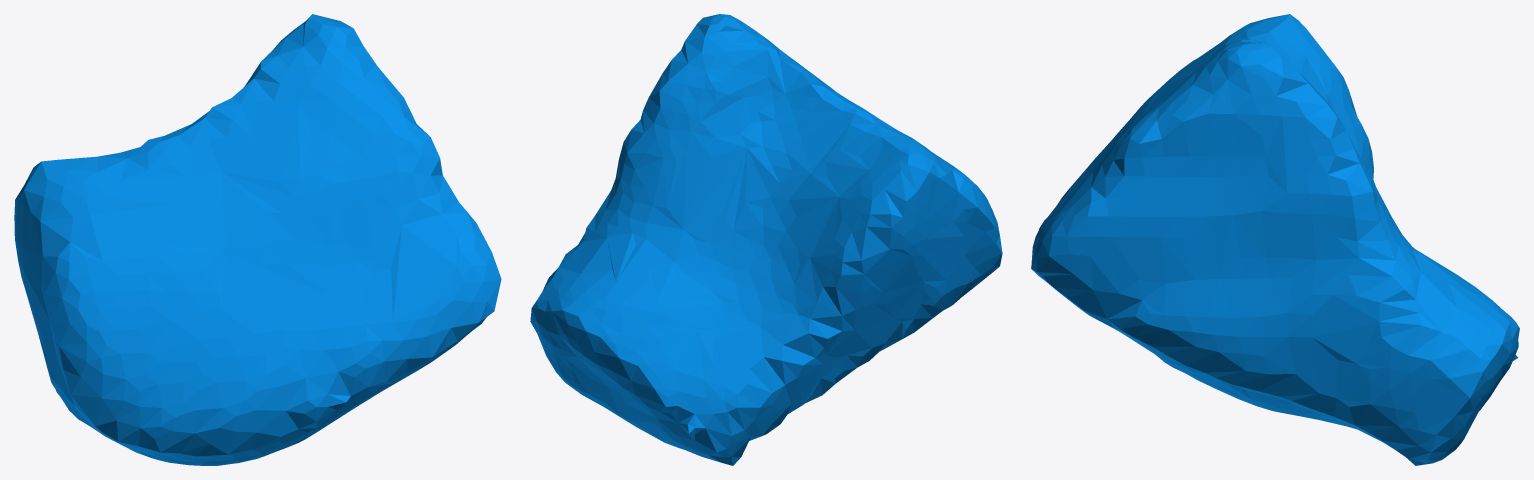
Rendered from Model_10071_LH__Area_46_of_cortex__dorsal_part_(A46D).obj.
3 renders of one model, left to right at view 1: azimuth 30°, elevation 25°; view 2: azimuth 150°, elevation 25°; view 3: azimuth 270°, elevation 25°, orthographic. The views are drawn at different scales.
Bounding box in the file's own units: 1.8 × 1.83 × 1.95.
